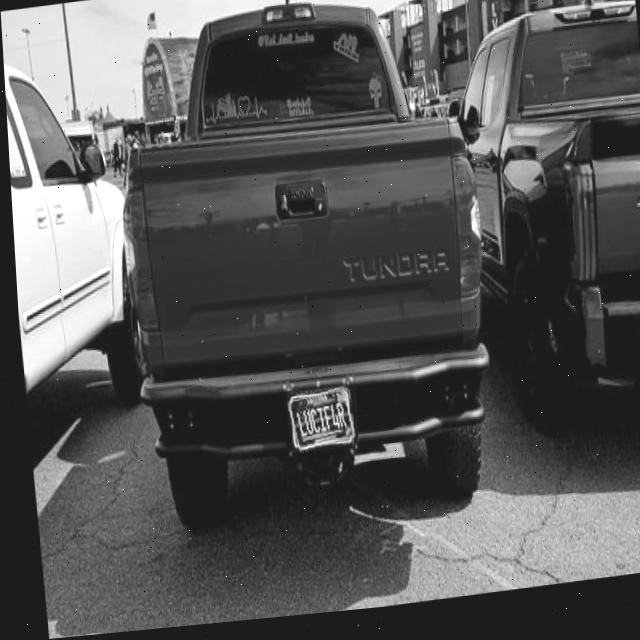LicensePlate: (281, 393, 349, 457)
